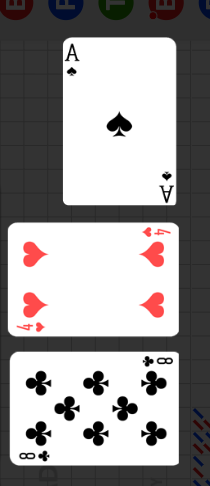8C: (18, 448, 53, 463)
AS: (65, 42, 82, 79), (157, 168, 174, 203)
